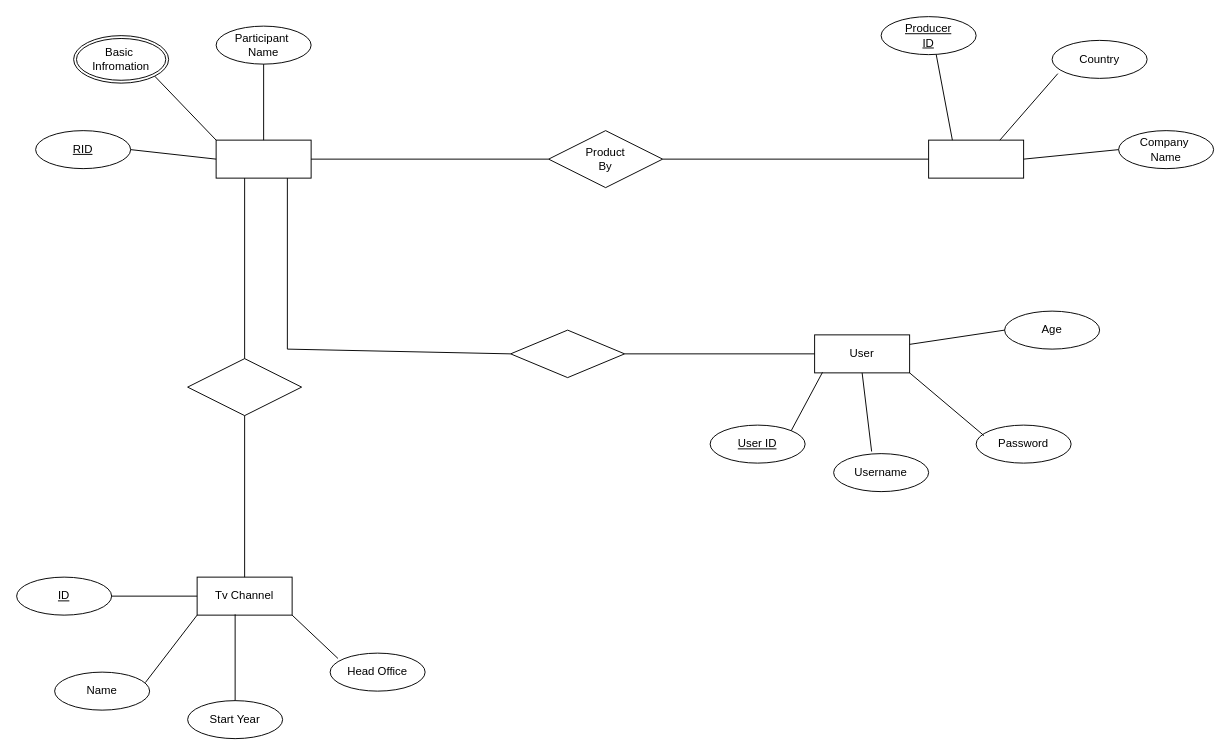
The diagram is 1230 pixels wide and 755 high, and some of its shapes have lost their labels. The shapes that lost their labels are listed below. From the top down, each one's centre as x and y in pixels, then its label:
At (263,158): "Realityshow".
At (976,158): "producer".
At (567,353): "Relationship".
At (244,387): "Broadcast By".
